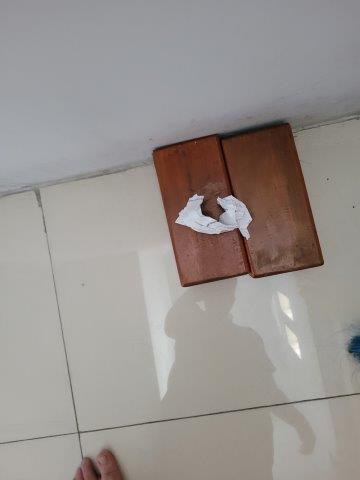kertas: (172, 196, 254, 241)
